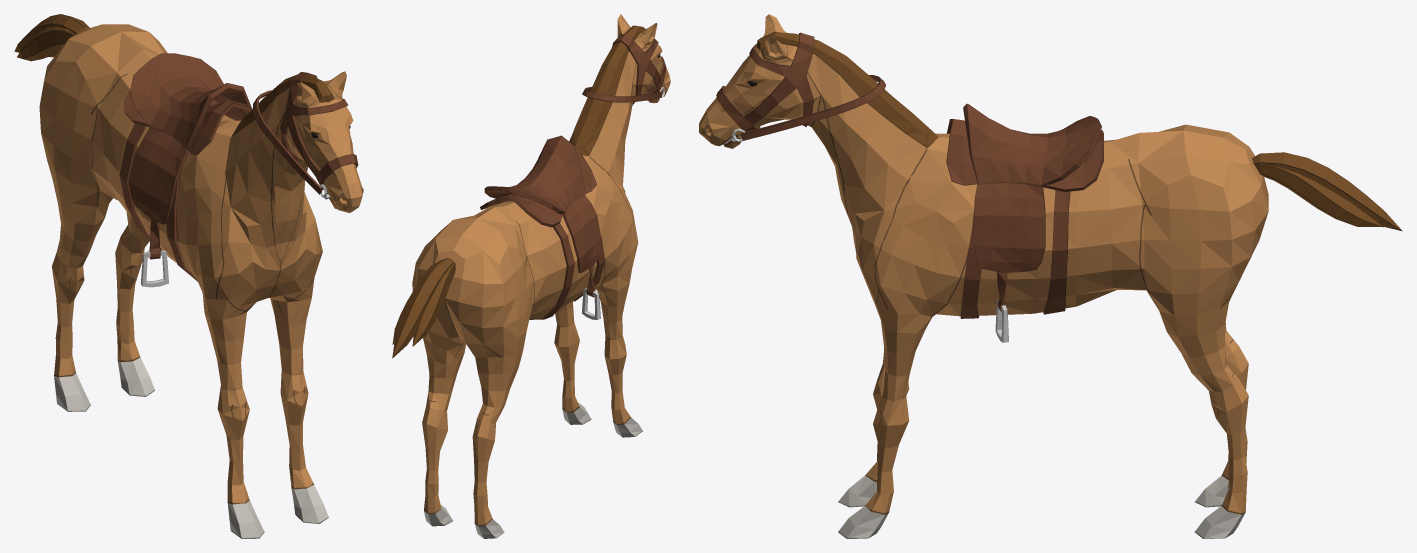
Rendered from Horse.obj.
3 views of the same model, side by side, from view 1: azimuth 30°, elevation 25°; view 2: azimuth 150°, elevation 25°; view 3: azimuth 270°, elevation 25° (orthographic). The views are drawn at different scales.
Visible parts, largest first — view 1: Plane.017, Plane.010, Plane.008, Plane.006, Plane.002, BezierCurve.002, Plane.013, BezierCircle.002, BezierCurve.006, Plane, Plane.001; view 2: Plane.017, Plane.010, Plane.008, BezierCurve.006, Plane.002, Plane.006, BezierCurve.002, Plane.013, BezierCircle.002, Plane.001; view 3: Plane.017, Plane.010, Plane.008, Plane.006, Plane.002, BezierCurve.006, BezierCurve.005, Plane.013, BezierCircle.002, Plane.
Part boxes in pixels (x1=…): Plane.017: x1=39, y1=24, x2=363, y2=538; Plane.010: x1=130, y1=53, x2=252, y2=148; Plane.008: x1=128, y1=127, x2=188, y2=224; Plane.006: x1=280, y1=72, x2=358, y2=189; Plane.002: x1=124, y1=89, x2=251, y2=155; BezierCurve.002: x1=17, y1=26, x2=75, y2=61; Plane.013: x1=119, y1=123, x2=161, y2=249; BezierCircle.002: x1=252, y1=90, x2=322, y2=194; BezierCurve.006: x1=14, y1=14, x2=89, y2=52; Plane: x1=166, y1=119, x2=236, y2=281; Plane.001: x1=141, y1=250, x2=168, y2=287; Plane.017: x1=412, y1=14, x2=670, y2=538; Plane.010: x1=484, y1=135, x2=585, y2=214; Plane.008: x1=562, y1=195, x2=601, y2=273; BezierCurve.006: x1=392, y1=257, x2=453, y2=358; Plane.002: x1=480, y1=149, x2=596, y2=227; Plane.006: x1=612, y1=33, x2=666, y2=105; BezierCurve.002: x1=412, y1=262, x2=455, y2=346; Plane.013: x1=529, y1=223, x2=574, y2=319; BezierCircle.002: x1=582, y1=87, x2=662, y2=102; Plane.001: x1=582, y1=288, x2=600, y2=319; Plane.017: x1=699, y1=14, x2=1268, y2=538; Plane.010: x1=963, y1=103, x2=1101, y2=186; Plane.008: x1=973, y1=183, x2=1045, y2=272; Plane.006: x1=716, y1=32, x2=814, y2=131; Plane.002: x1=946, y1=119, x2=1103, y2=191; BezierCurve.006: x1=1252, y1=152, x2=1402, y2=231; BezierCurve.005: x1=1258, y1=166, x2=1383, y2=227; Plane.013: x1=1043, y1=190, x2=1070, y2=314; BezierCircle.002: x1=740, y1=75, x2=885, y2=140; Plane: x1=960, y1=221, x2=981, y2=318.
Size of the model in its own units: 0.6121 by 2.1 by 2.72.
Materials: 1 (1 with a texture image).
